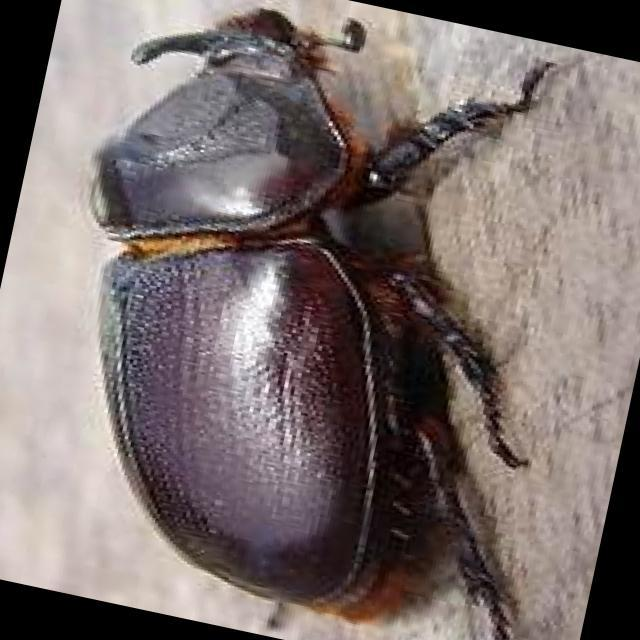Rhino-beetle: (92, 3, 537, 605)
